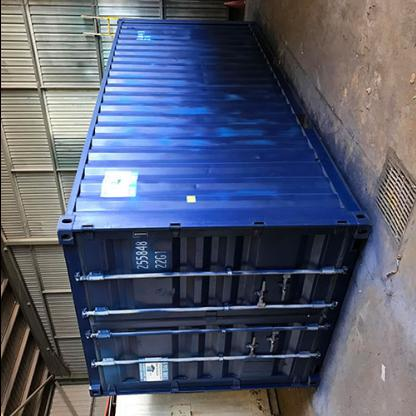Damage: (182, 133, 218, 185), (226, 81, 254, 133), (194, 49, 213, 107), (156, 19, 198, 43), (228, 147, 268, 169)
